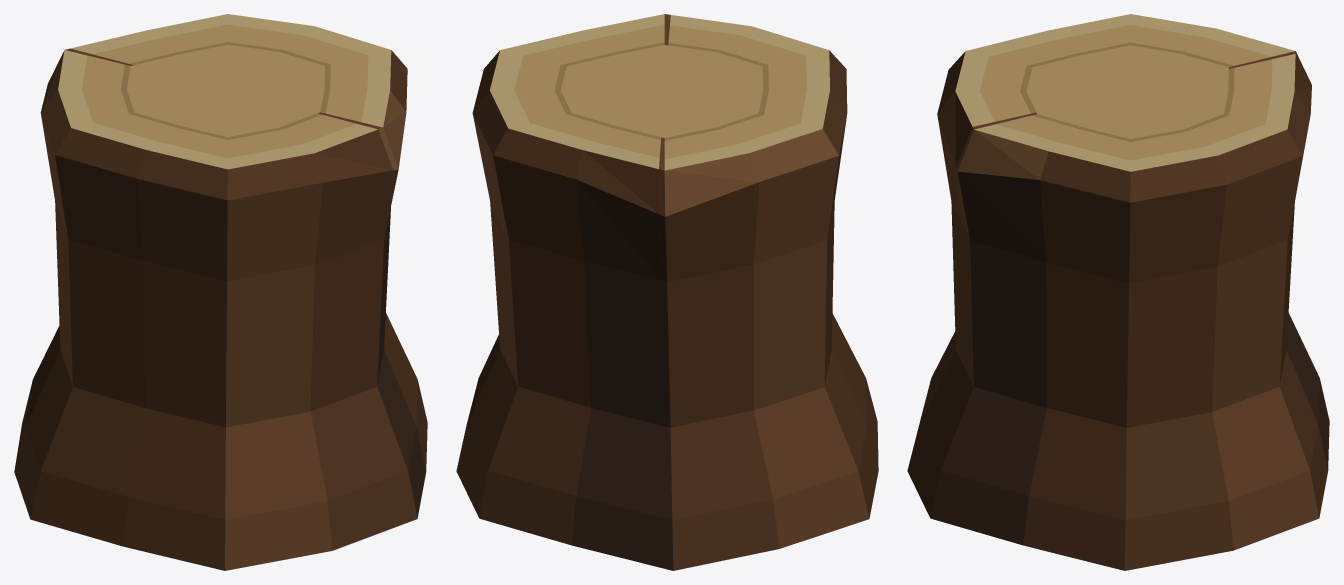
The model's file is crude_workbench.glb.
3 views of the same model, side by side, from view 1: azimuth 30°, elevation 25°; view 2: azimuth 150°, elevation 25°; view 3: azimuth 270°, elevation 25° (orthographic).
Visible parts, largest first — view 1: crude_workbench; view 2: crude_workbench; view 3: crude_workbench.
Part boxes in pixels (left/top/right/bottom): crude_workbench: left=14, top=14, right=427, bottom=570; crude_workbench: left=456, top=14, right=878, bottom=570; crude_workbench: left=907, top=14, right=1329, bottom=570.
Size of the model in its own units: 0.9604 by 0.875 by 0.8752.
